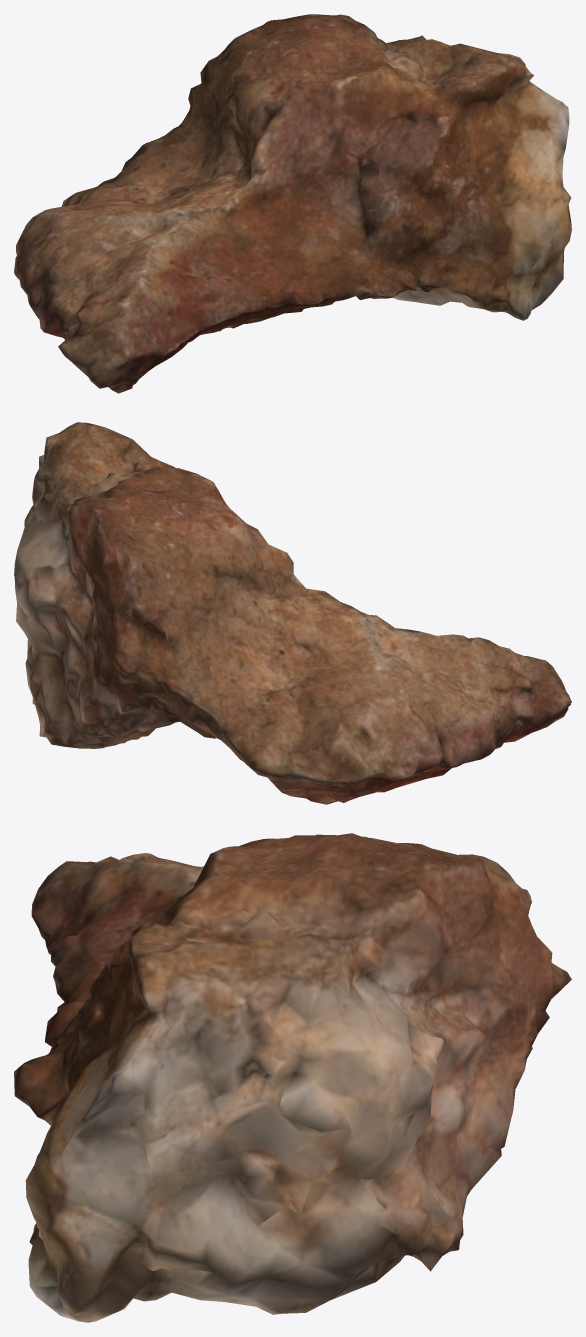
Rendered from stone_01.glb.
3 views of the same model, one above another, from view 1: azimuth 30°, elevation 25°; view 2: azimuth 150°, elevation 25°; view 3: azimuth 270°, elevation 25° (orthographic). The views are drawn at different scales.
Parts seen in each view (by area): view 1: stone_01; view 2: stone_01; view 3: stone_01.
Boxes of the visible parts, box(x1,y1,x2,y2) form: stone_01: box(14, 14, 571, 393); stone_01: box(14, 422, 571, 804); stone_01: box(14, 833, 571, 1322).
Size of the model in its own units: 0.1469 by 0.0718 by 0.089.
1 material, 1 textured.
